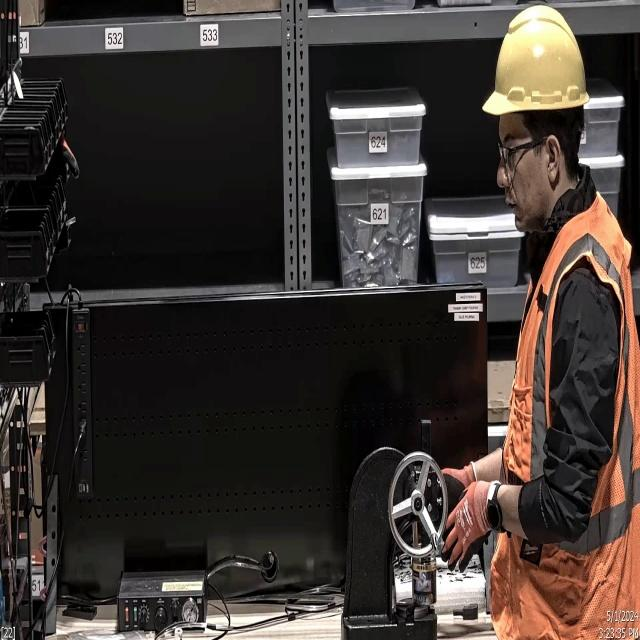construction-gloves: (440, 472, 489, 582)
